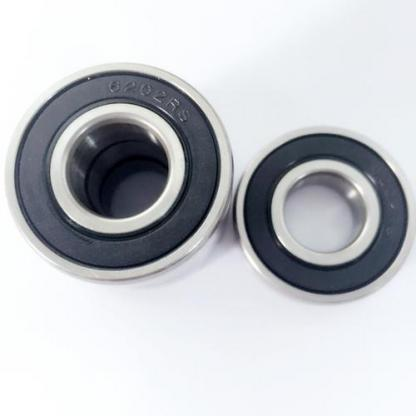FOD: (2, 58, 235, 286), (233, 120, 415, 308)
